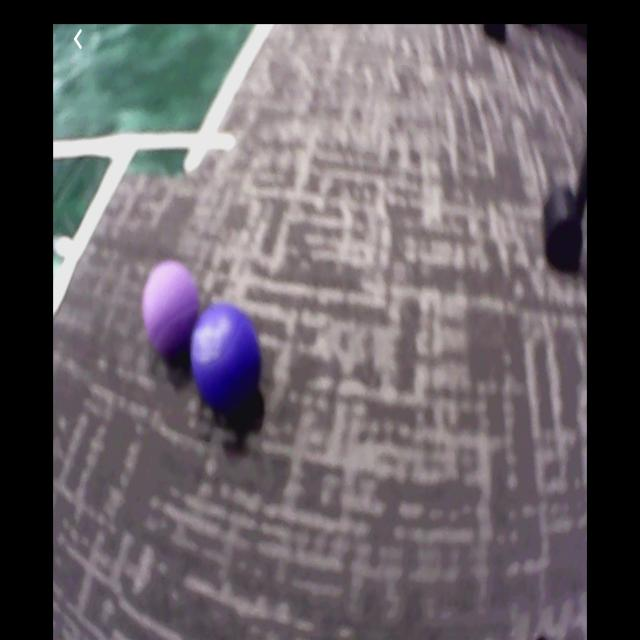ball: (191, 305, 260, 414), (146, 260, 197, 363)
